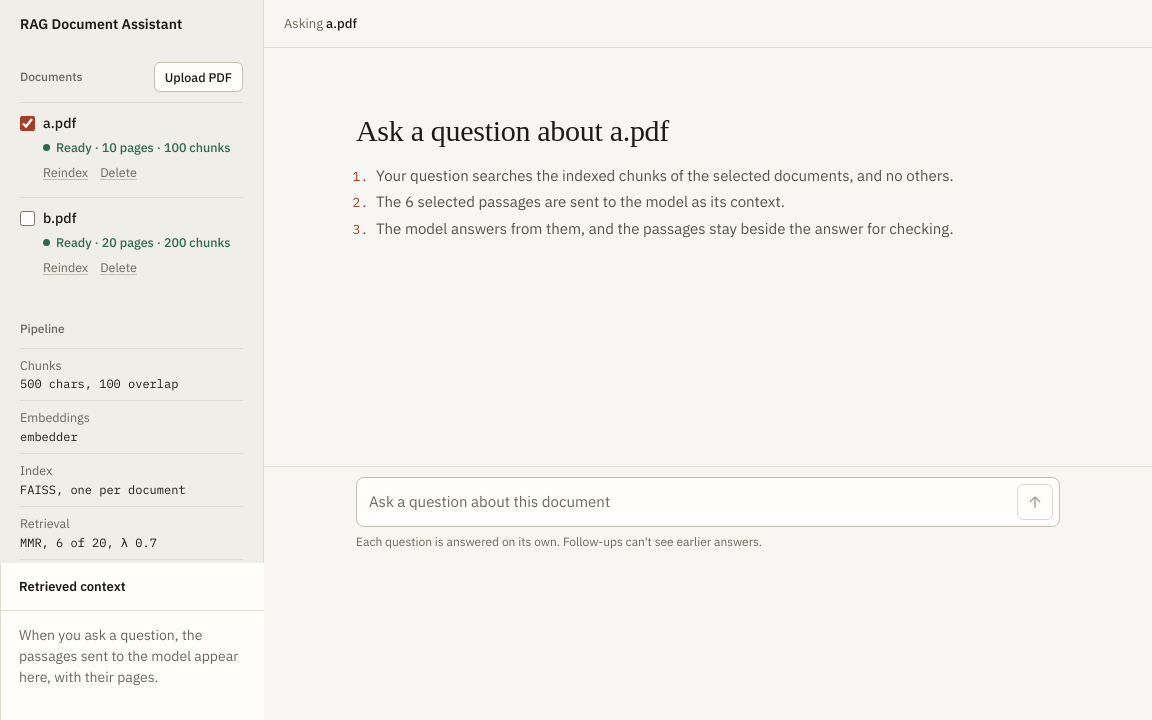
Test: selection › names the scope in the header and heading as the selection changes
What coordinates should you click on to do the following:
click the checkbox labelled "b.pdf"
I would click on:
 (28, 218)
Its box is [20,211,35,226].
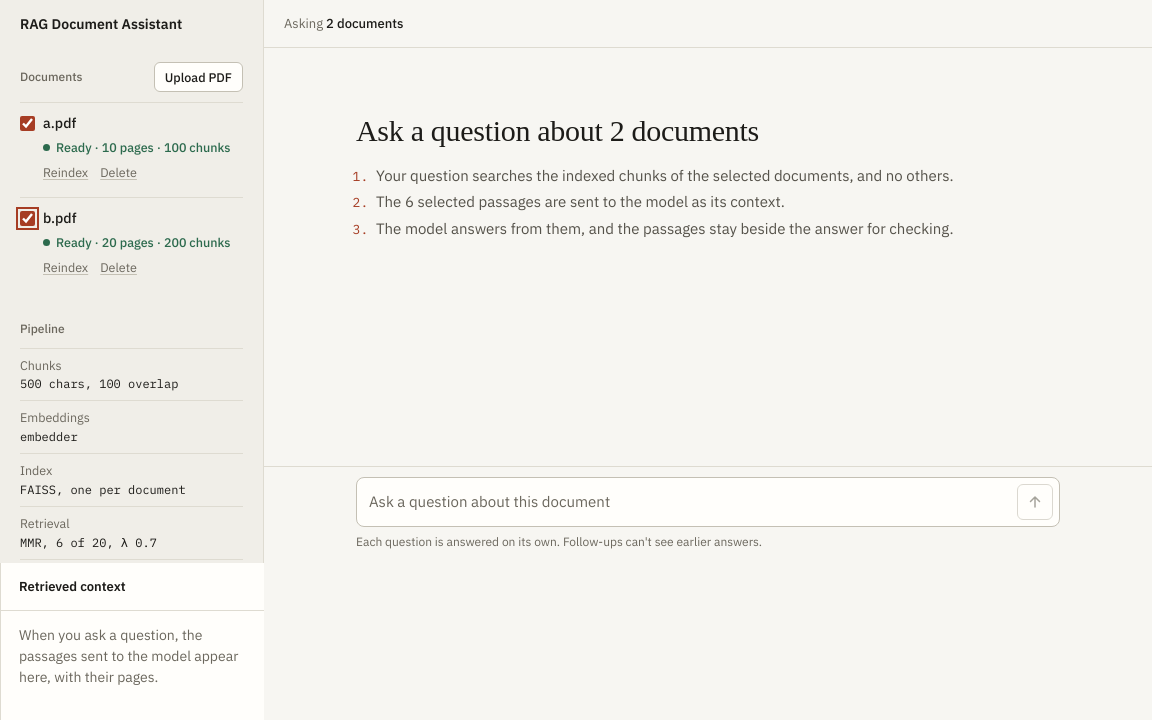
Now the heading "Ask a question about 2 documents" is shown, box [356,114,759,147]
Now the text "2 documents" is shown, box [326,15,404,32]
